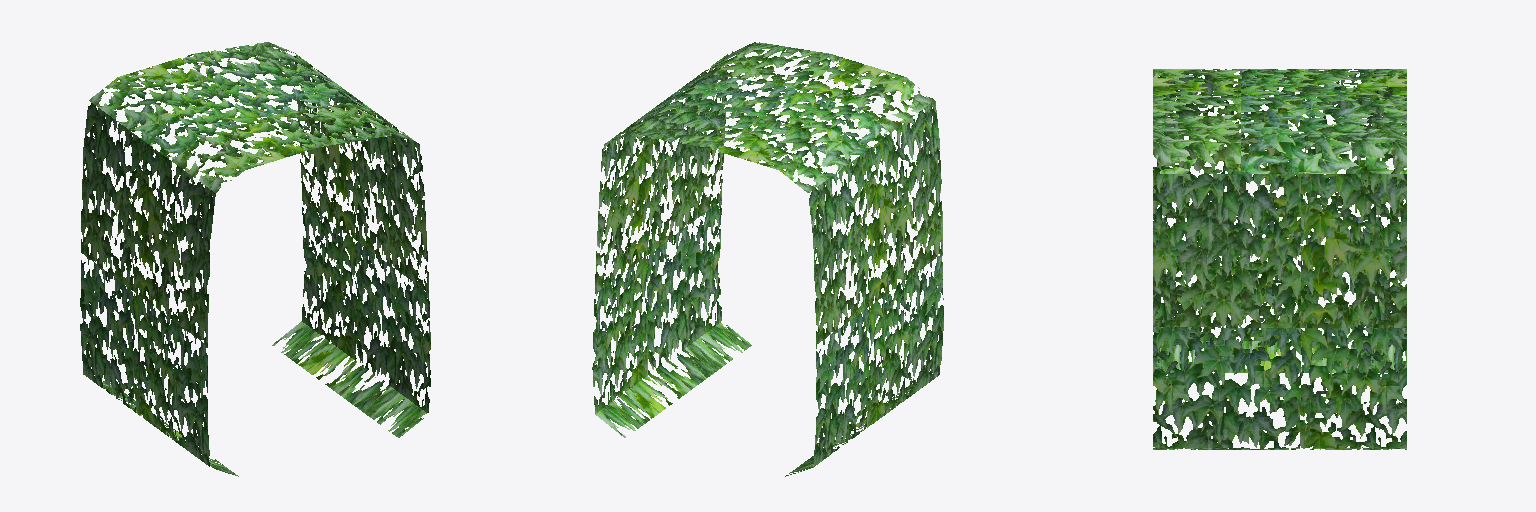
The picture shows the model from 3 angles: view 1: azimuth 30°, elevation 25°; view 2: azimuth 150°, elevation 25°; view 3: azimuth 270°, elevation 25°; orthographic projection.
Bounding box in the file's own units: 2.03 × 2.69 × 2.
1 materials, 1 textured.